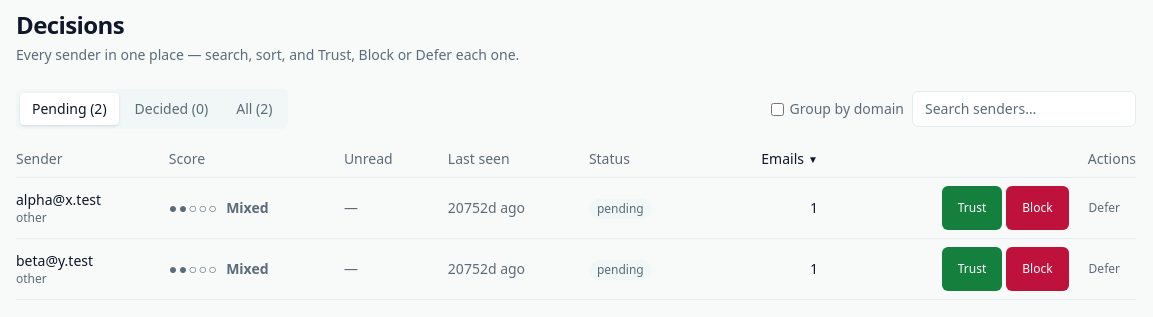
Dashboard — decisions surface › filters the visible senders by the search query
expect the text "alpha@x.test" is shown: met, box [16,190,101,209]
expect the text "beta@y.test" is shown: met, box [16,251,93,270]
Type "alpha" into the search field labelled "Search senders…". click: (1024, 109)
box: [912,91,1136,127]
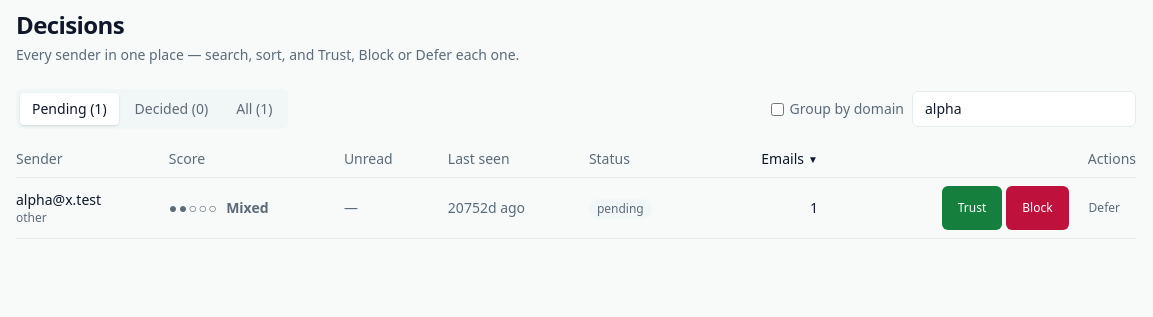
expect the text "alpha@x.test" is shown: met, box [16,190,101,209]
expect the text "beta@y.test" is gone: met
